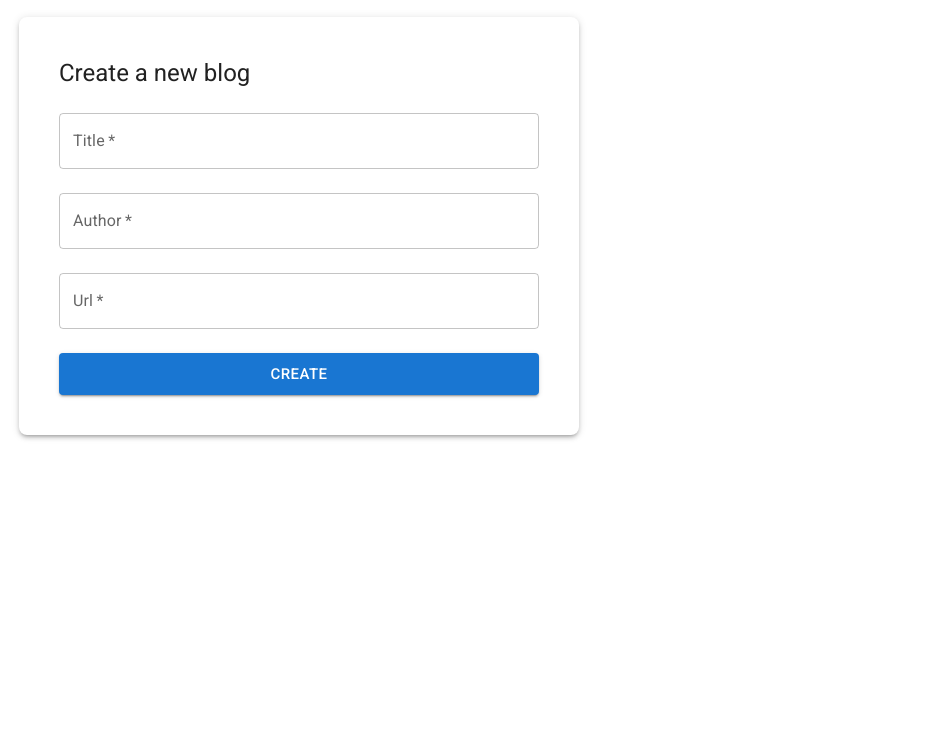
Test: BlogForm integration › creates a new blog successfully
Type "My New Blog" into the field with test id "blogTitle".
click(299, 141); type("My New Blog")  # box x1=59 y1=113 x2=539 y2=169
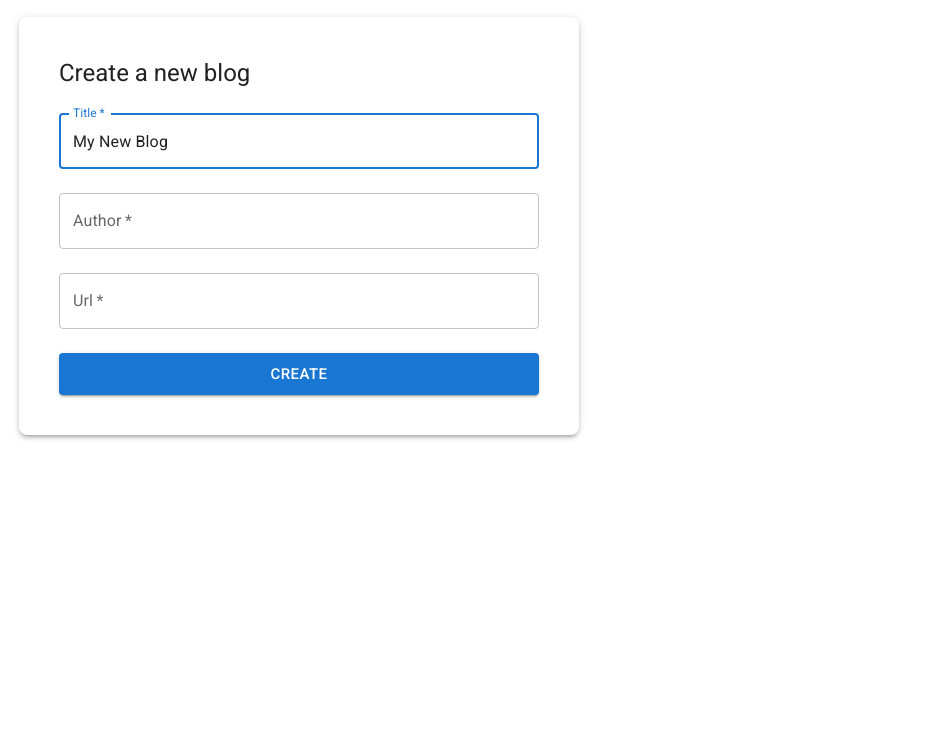
Type "Tester" into the field with test id "blogAuthor".
click(299, 221); type("Tester")  # box x1=59 y1=193 x2=539 y2=249
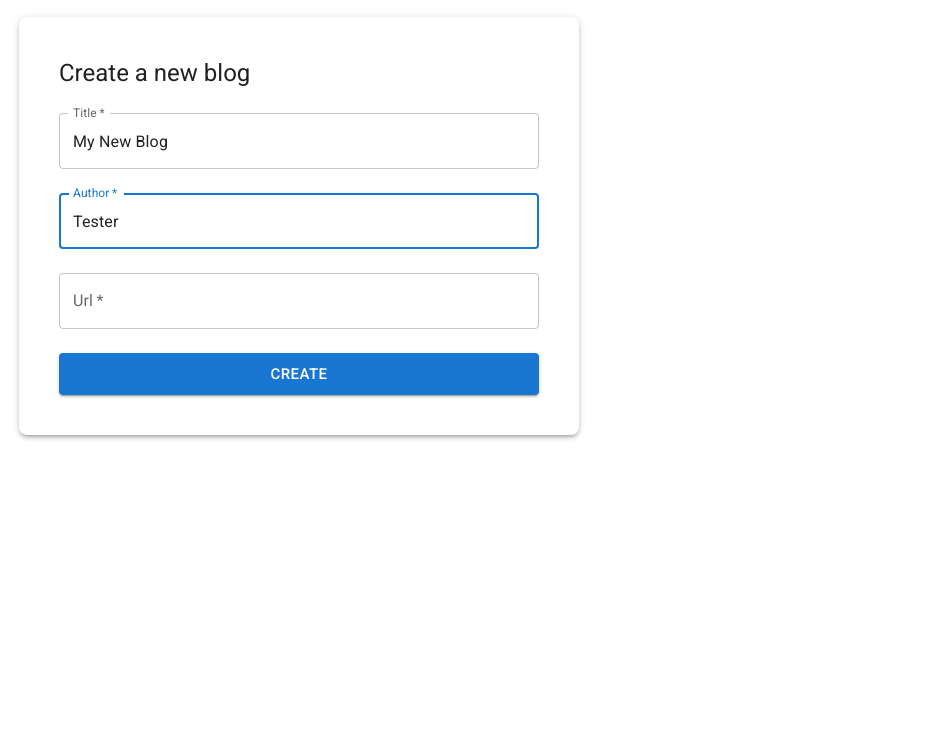
Type "http://example.com/blog" into the field with test id "blogUrl".
click(299, 301); type("http://example.com/blog")  # box x1=59 y1=273 x2=539 y2=329
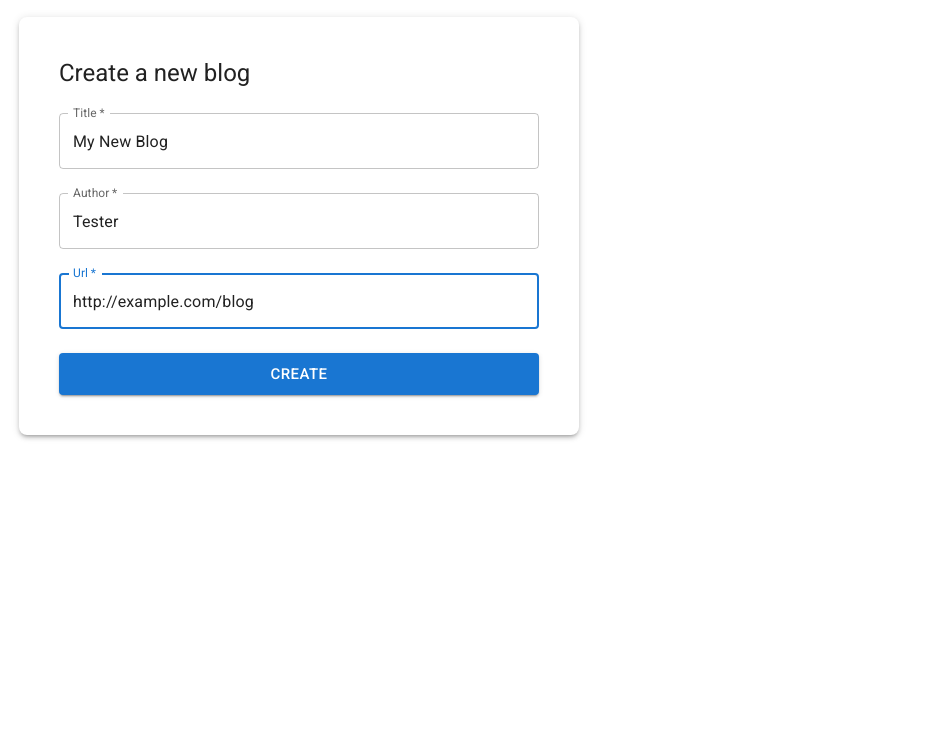
Click the button "Create".
click(299, 374)  # box x1=59 y1=353 x2=539 y2=395
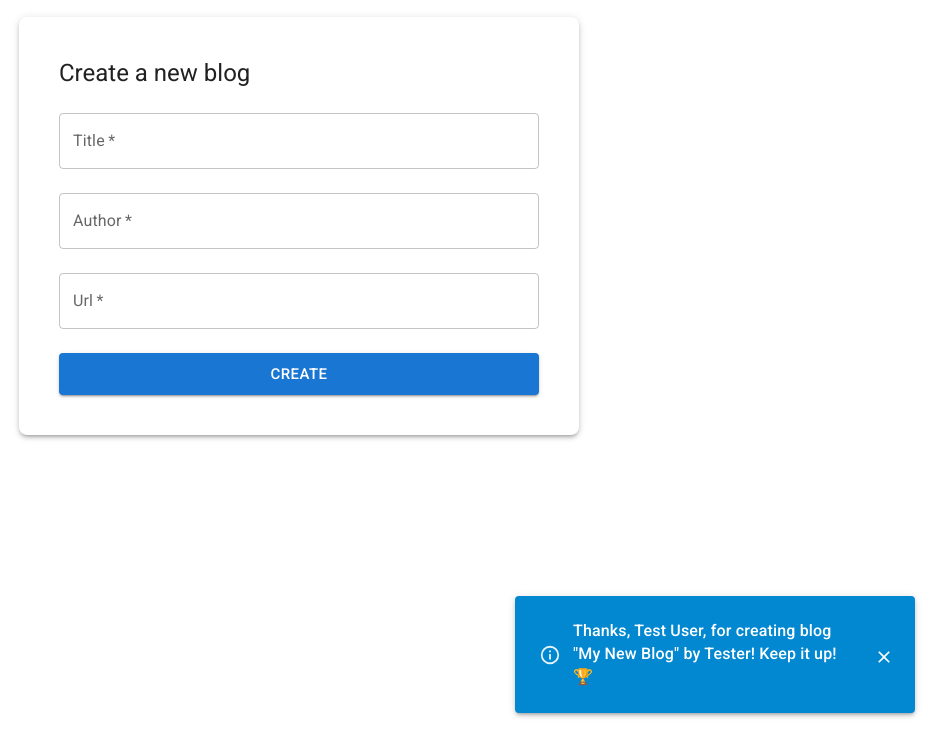
Check: the text "Thanks, Test User, for creating blog \"My New Blog\"" is shown, box x1=573 y1=621 x2=837 y2=686
Check: the field with test id "blogTitle" is empty, box x1=59 y1=113 x2=539 y2=169
Check: the field with test id "blogAuthor" is empty, box x1=59 y1=193 x2=539 y2=249
